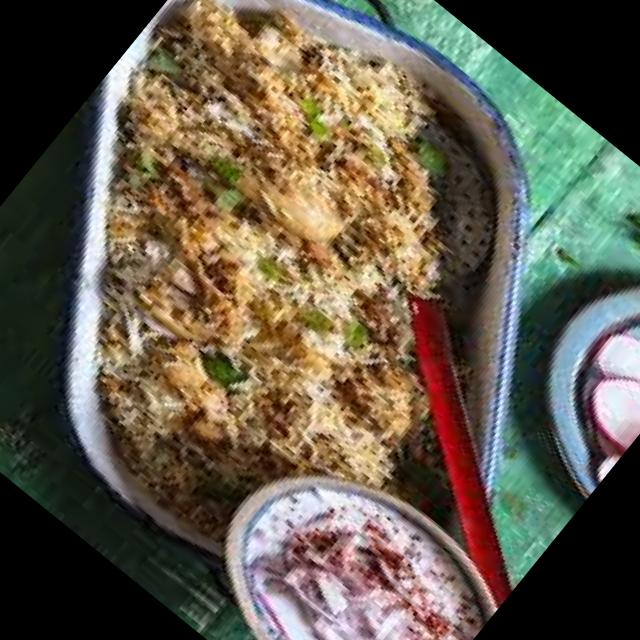Biryani: (0, 0, 621, 551)
